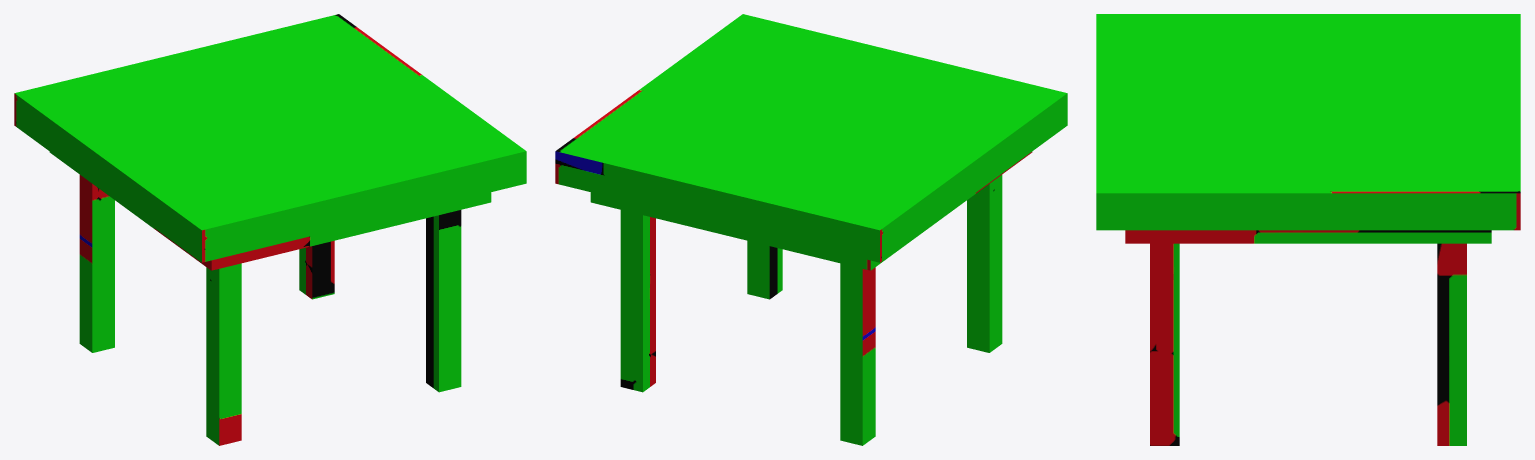
Rendered from GraterTable_Meter.glb.
The picture shows the model from 3 angles, left to right: view 1: azimuth 30°, elevation 25°; view 2: azimuth 150°, elevation 25°; view 3: azimuth 270°, elevation 25°; orthographic projection. The views are drawn at different scales.
Visible parts, largest first — view 1: Grater_Table_Low; view 2: Grater_Table_Low; view 3: Grater_Table_Low.
Boxes of the visible parts, <box> form: Grater_Table_Low: <box>14,14,526,445</box>; Grater_Table_Low: <box>555,14,1067,445</box>; Grater_Table_Low: <box>1096,14,1520,445</box>.
Size of the model in its own units: 105 by 75 by 105.
Materials: 1 (1 with a texture image).
